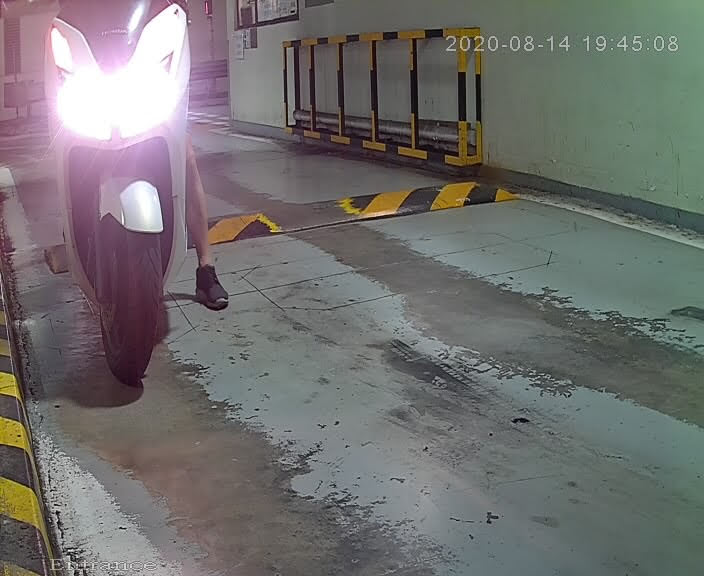motorcycle: (26, 1, 261, 395)
